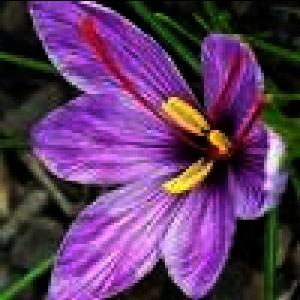Saffron: (30, 0, 280, 300)
